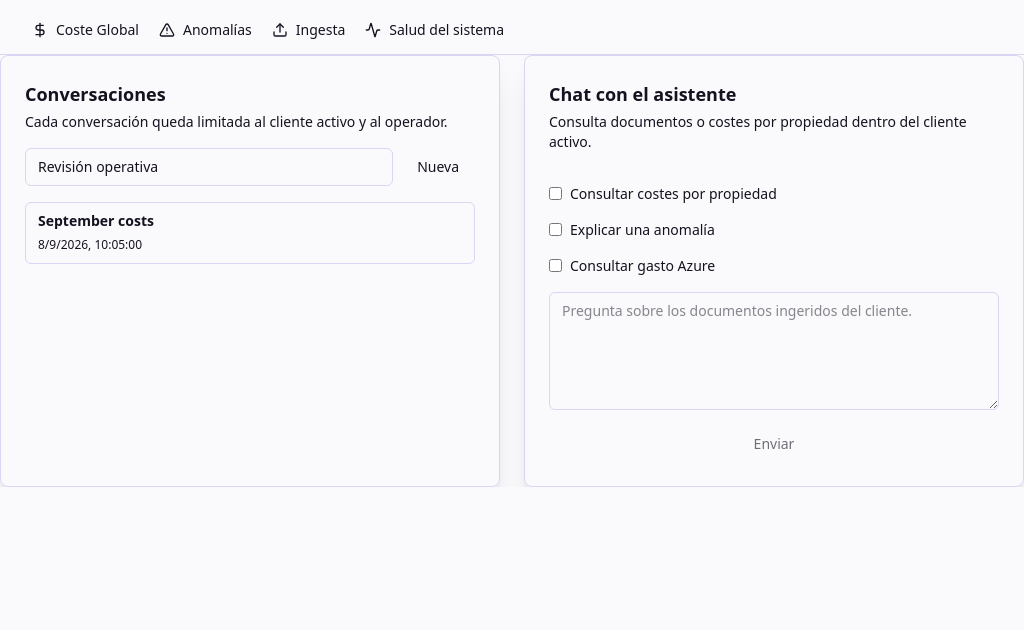
Test: assistant conversations › blocks incomplete and reversed cost periods before sending
The width and height of the screenshot is (1024, 630).
Type "Coste" into the text box labelled "Pregunta".
click(774, 350); type("Coste")  # box [549, 292, 999, 410]
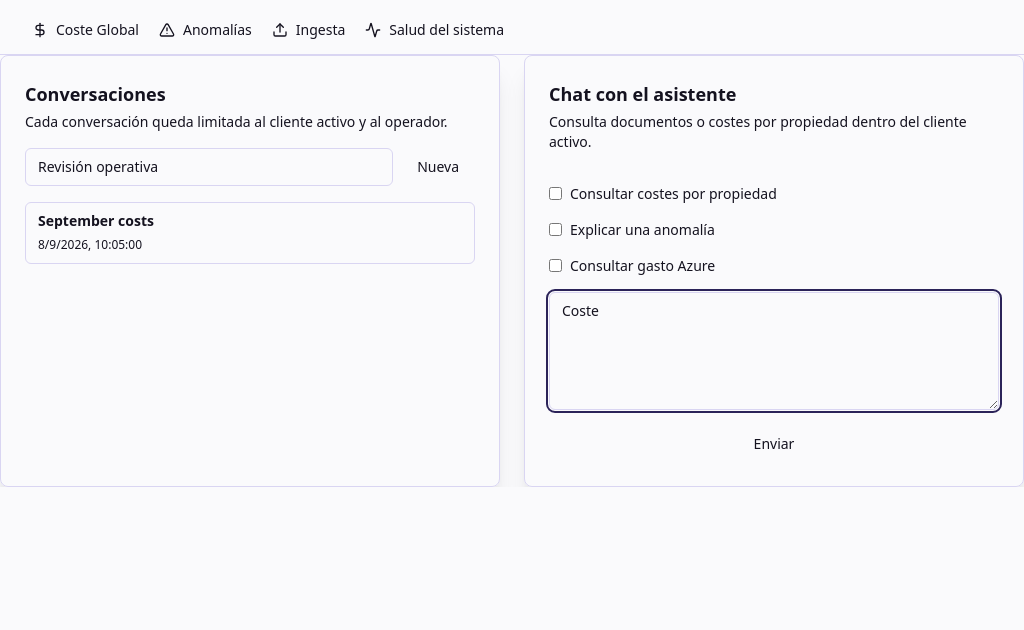
Click the checkbox labelled "Consultar gasto Azure".
click(556, 266)  # box [549, 259, 562, 272]
(page scrolled)
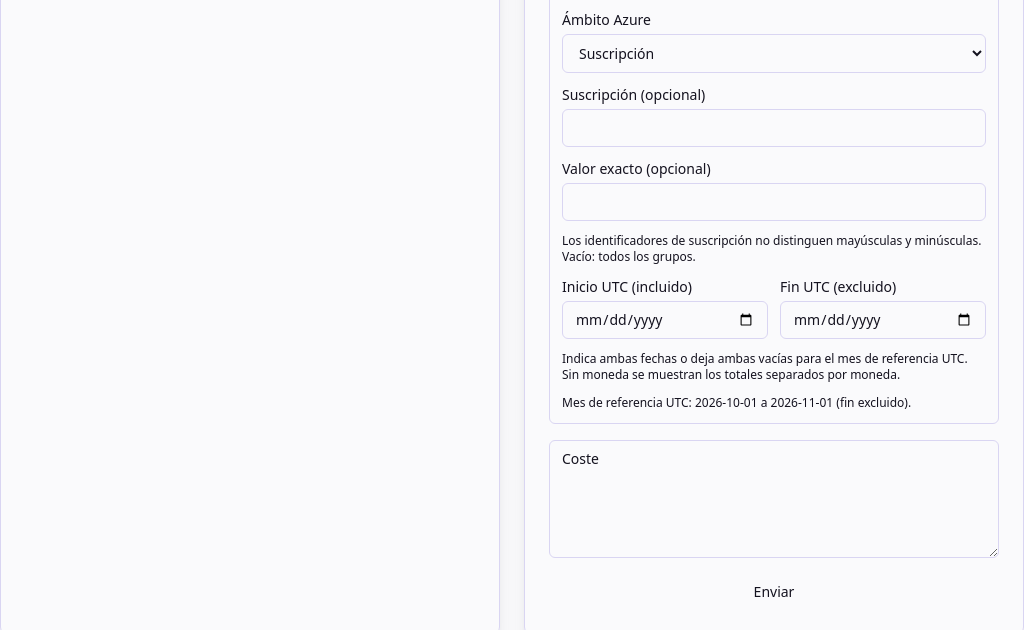
Type "2024-07-01" into the date field labelled "Inicio UTC (incluido)".
click(665, 320); type("2024-07-01")  # box [562, 300, 768, 338]
(page scrolled)
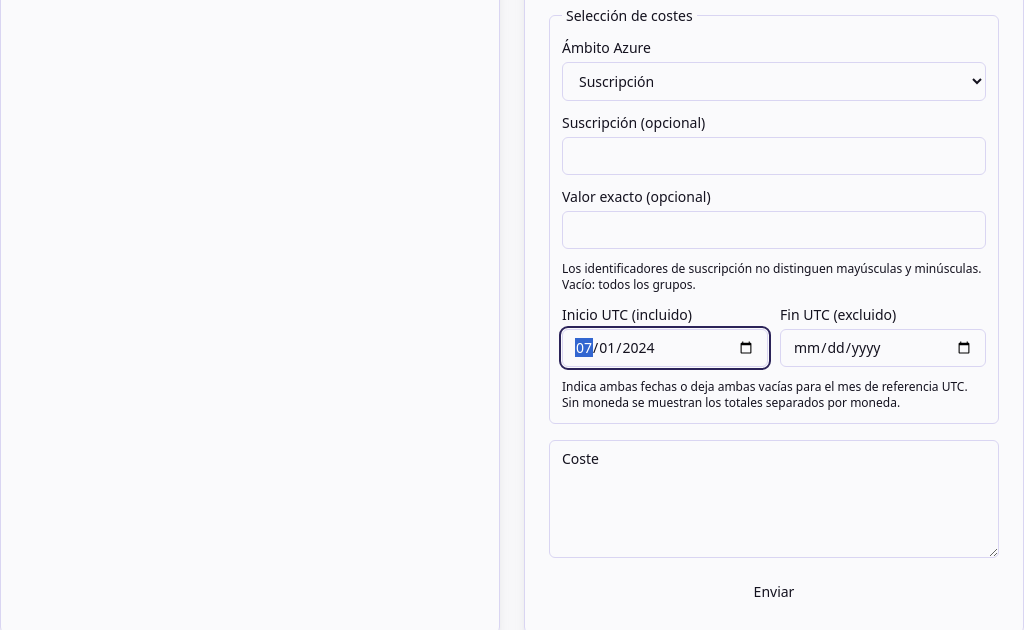
Click the button "Enviar".
click(774, 592)  # box [549, 574, 999, 610]
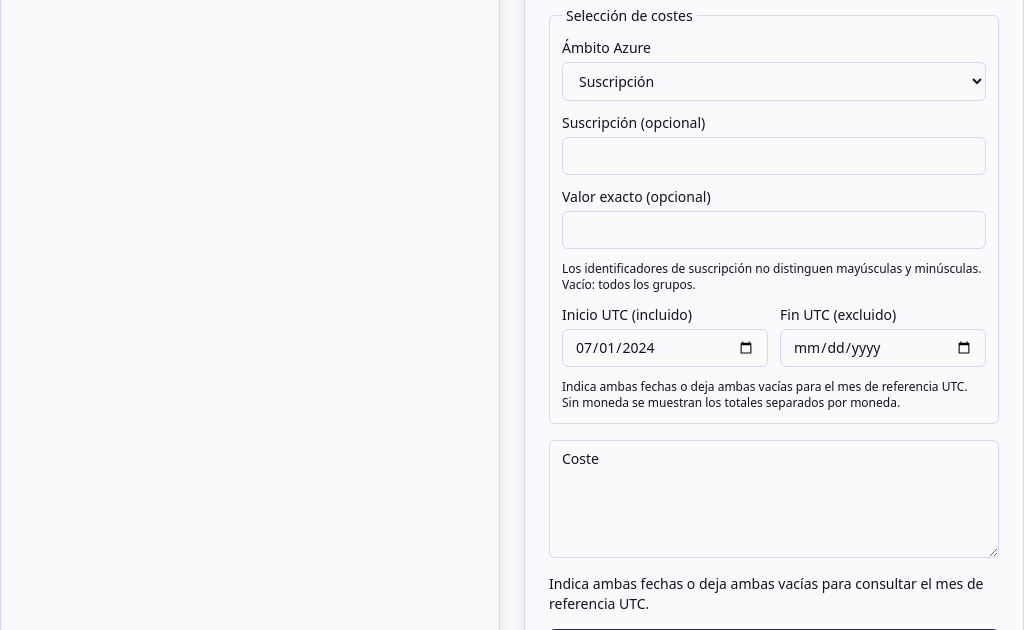
Type "2024-06-01" into the date field labelled "Fin UTC (excluido)".
click(883, 348); type("2024-06-01")  # box [780, 328, 986, 366]
(page scrolled)
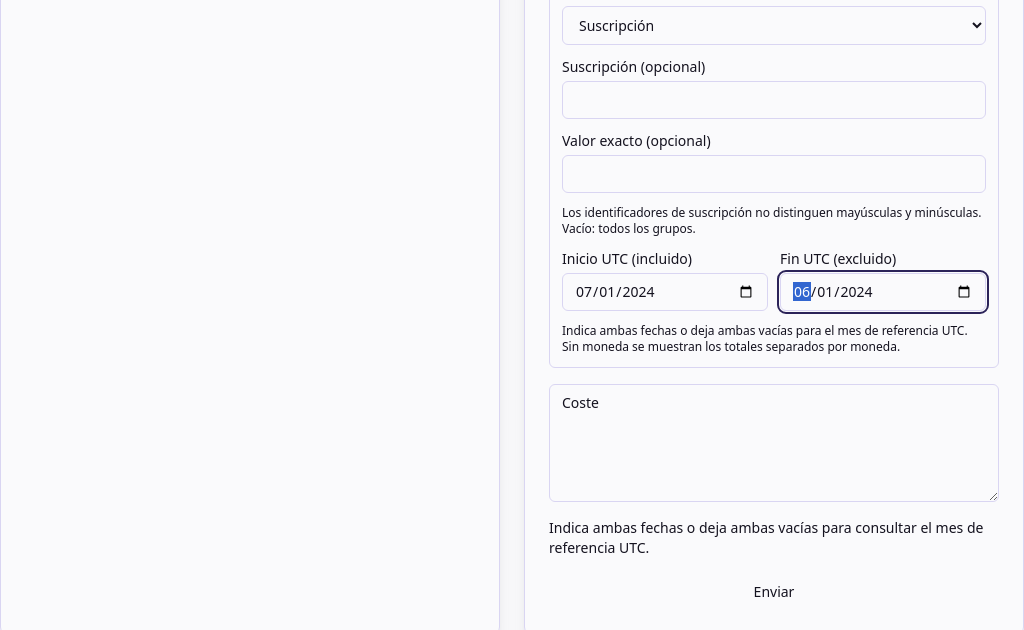
Click the button "Enviar".
click(774, 592)  # box [549, 574, 999, 610]
(page scrolled)
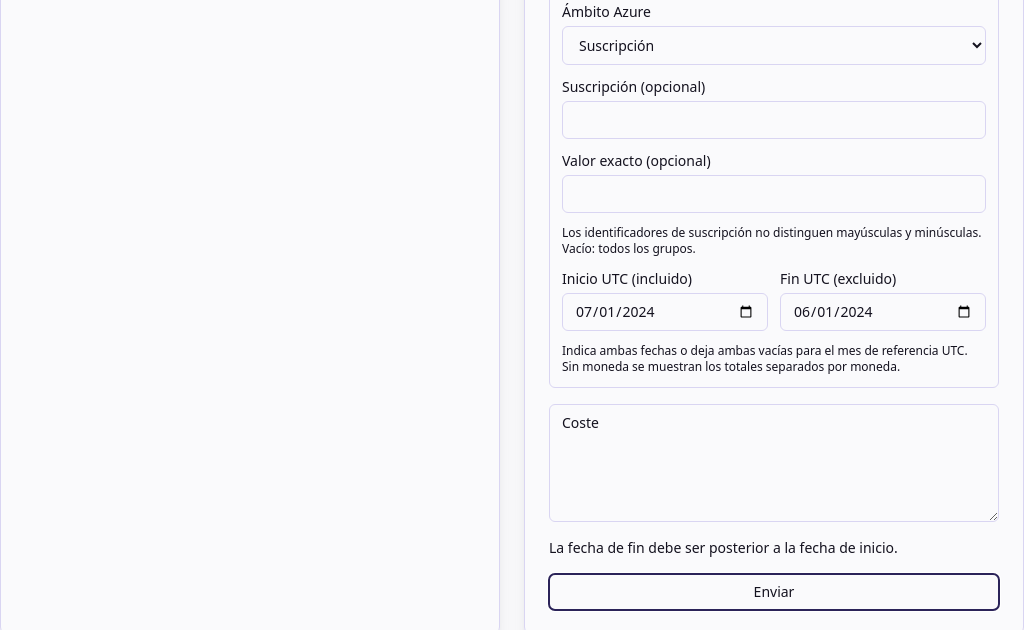
Result: the message shows "La fecha de fin debe ser posterior" at [549, 538, 898, 556]
